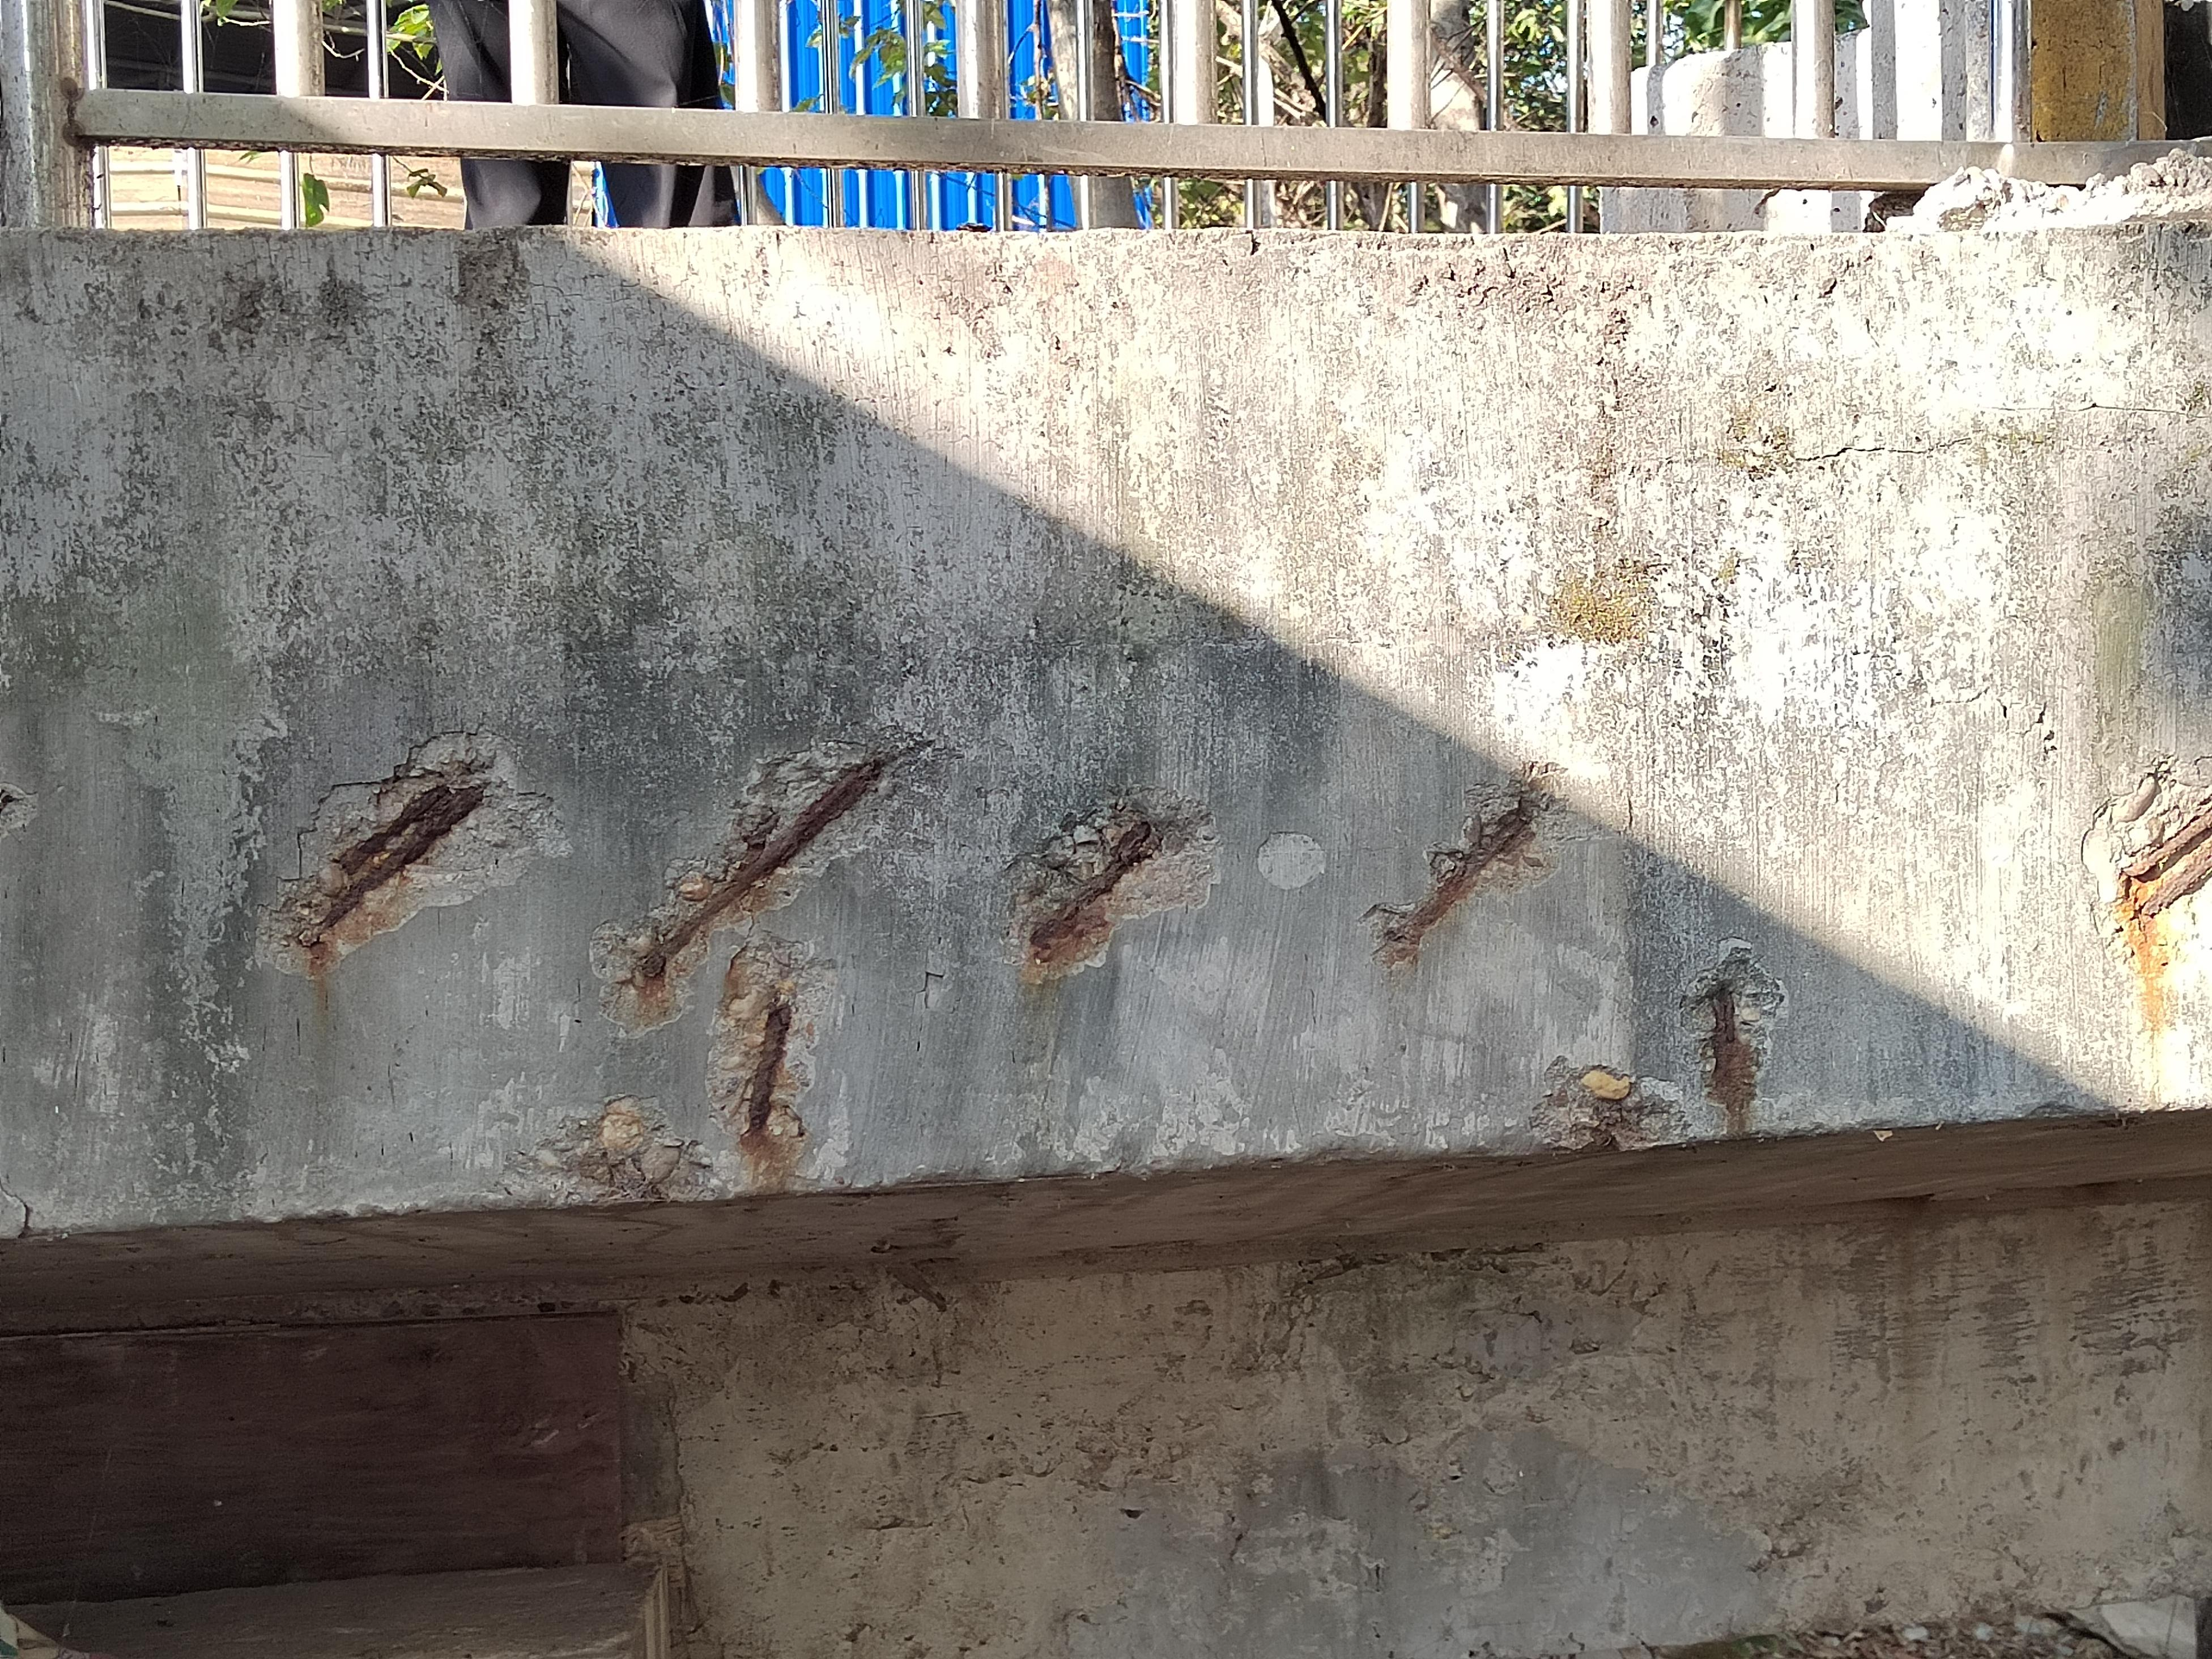crack: (1724, 396, 2212, 467)
rebar: (644, 763, 874, 976), (307, 789, 484, 948), (1395, 812, 1529, 945), (1040, 826, 1158, 951), (352, 786, 444, 875), (2128, 814, 2210, 878), (749, 1004, 789, 1129), (2148, 854, 2212, 918), (1724, 992, 1733, 1042)
separation: (1911, 660, 2059, 751), (0, 1183, 31, 1241)
spall: (583, 735, 902, 1037), (254, 728, 575, 979), (1357, 756, 1566, 976), (1005, 800, 1224, 985), (707, 934, 834, 1161), (2080, 755, 2205, 978), (503, 1093, 730, 1206), (1683, 941, 1785, 1133), (1527, 1054, 1689, 1147)
